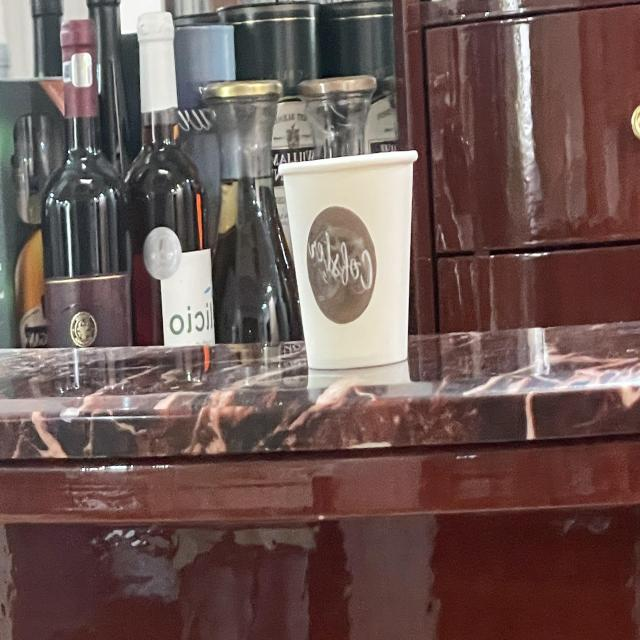medium: (275, 142, 419, 378)
